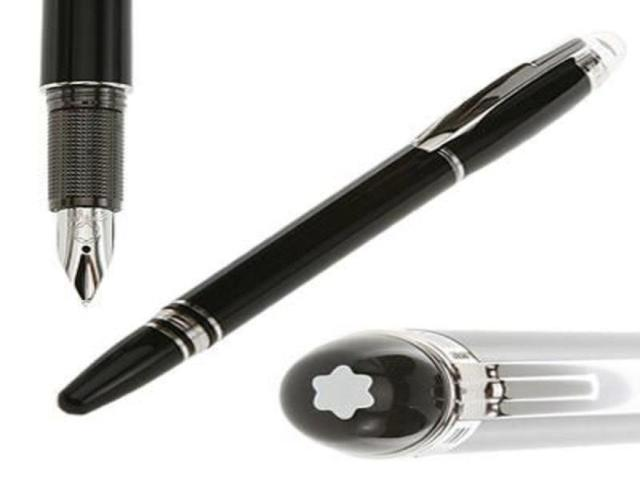PEN: (30, 15, 627, 438), (275, 321, 640, 460), (30, 0, 134, 311)
